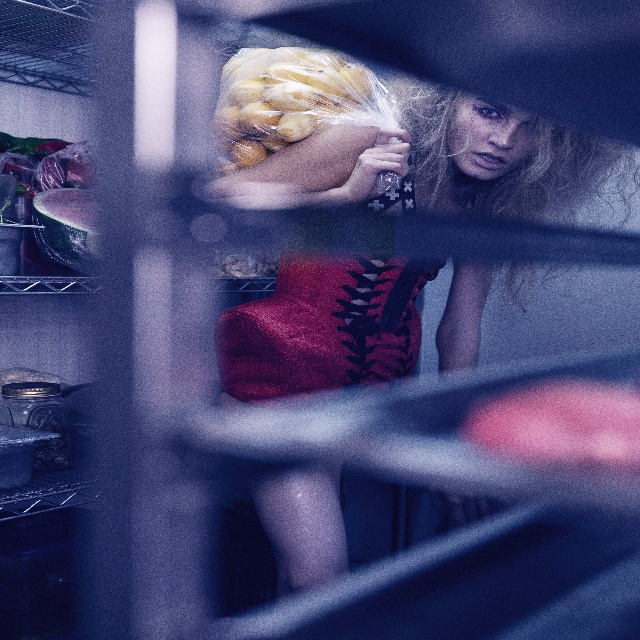Sin_guantes: (343, 126, 413, 208)
